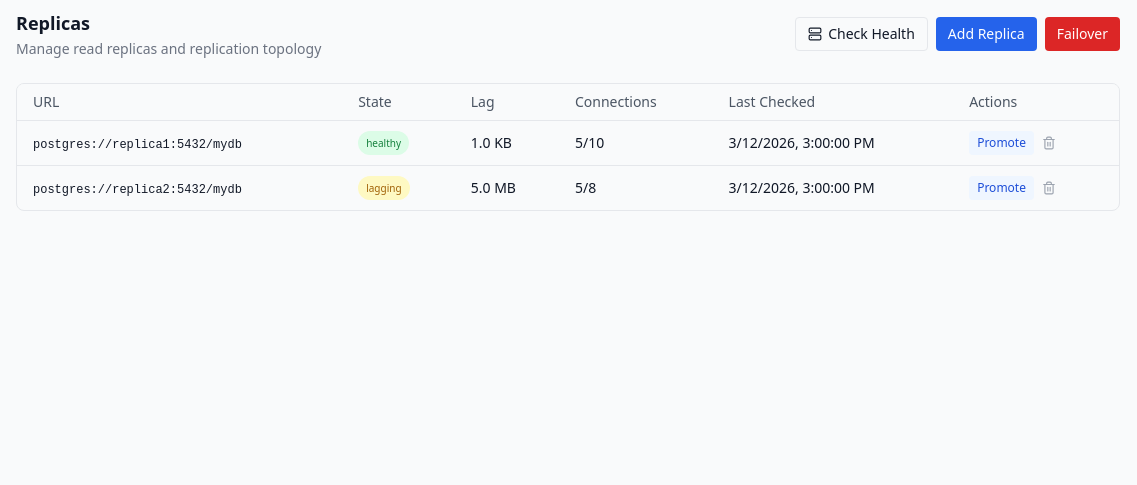
it: Replicas › validates required fields in add-replica form
Check: the text "postgres://replica1:5432/mydb" is shown, box [33,138,242,152]
Click the button "Add Replica" at coordinates (986, 34), box [936,17,1037,51]
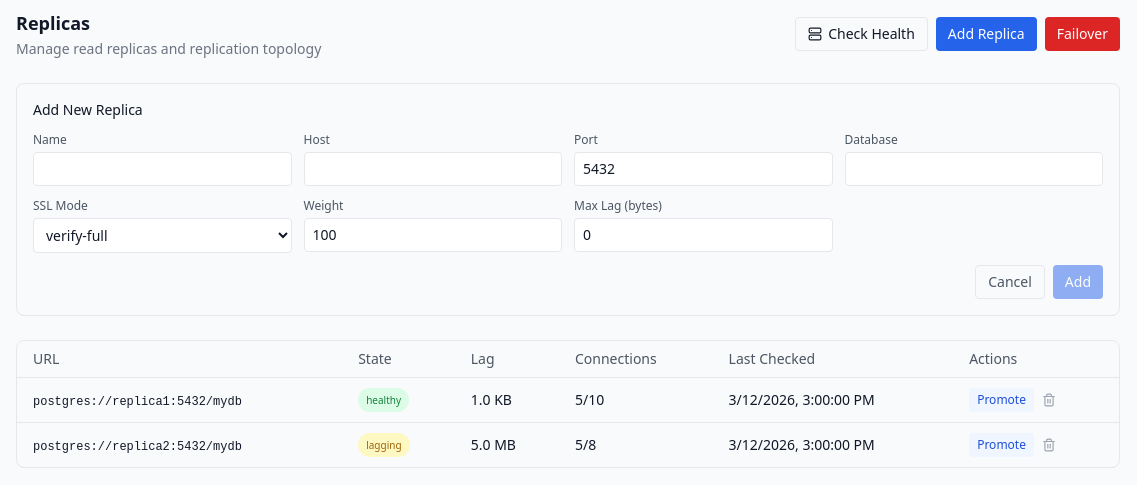
Check: the button "Add" is disabled, box [1053,265,1103,299]
